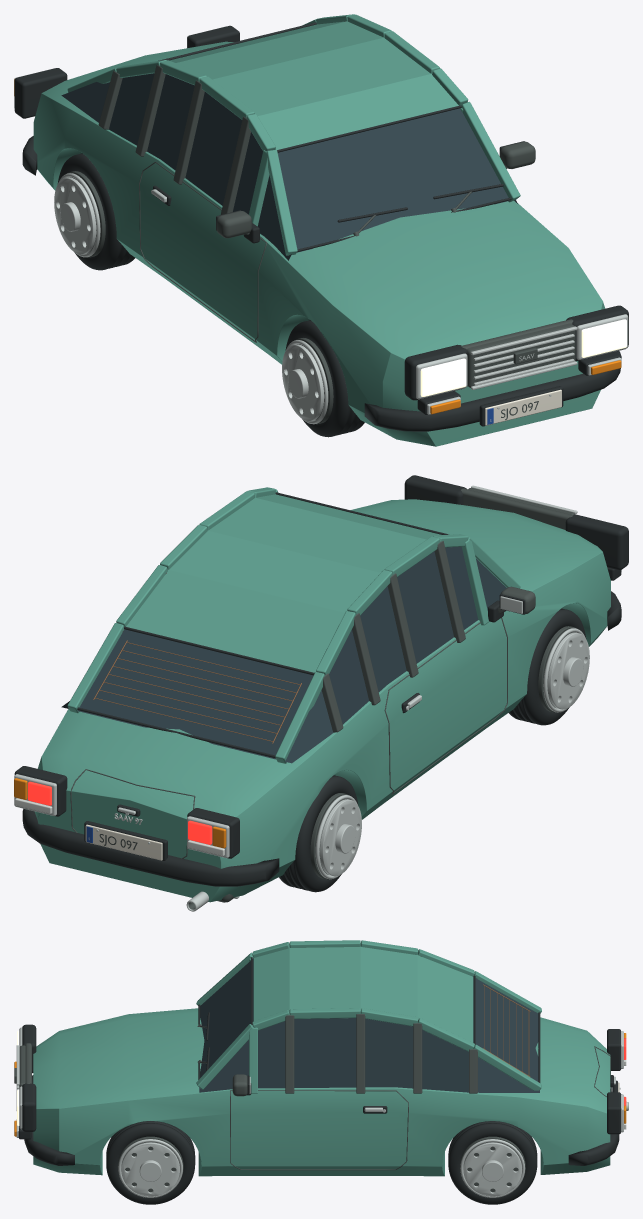
The model's file is saab96.glb.
3 renders of one model, top to bottom at view 1: azimuth 30°, elevation 25°; view 2: azimuth 150°, elevation 25°; view 3: azimuth 270°, elevation 25°, orthographic. The views are drawn at different scales.
Parts seen in each view (by area): view 1: Painted bodyshell, Cabin, Saav wraparound bumper, Däck, Saav grille backing, Däck.002, Pressed steel wheel.002, Pressed steel wheel, Rear combination lamp housing, Headlamp lens, Roof rail, Headlamp lens.001 (+18 smaller); view 2: Painted bodyshell, Cabin, Saav wraparound bumper.001, Däck.002, Däck, Pressed steel wheel, Pressed steel wheel.002, Headlamp pocket, Grille, Saav number plate.001, Headlamp pocket.001, Roof rail.010 (+19 smaller); view 3: Painted bodyshell, Cabin, Däck.003, Däck.001, Pressed steel wheel.001, Pressed steel wheel.003, Saav wraparound bumper.001, Roof rail.001, Saav wraparound bumper, Window pillar.005, Window pillar.003, Roof rail.011 (+22 smaller).
Boxes of the visible parts, <box> form: Painted bodyshell: <box>33,41,605,446</box>; Cabin: <box>61,21,517,260</box>; Saav wraparound bumper: <box>364,351,621,431</box>; Däck: <box>285,320,364,437</box>; Saav grille backing: <box>467,323,575,387</box>; Däck.002: <box>57,153,134,270</box>; Pressed steel wheel.002: <box>54,177,96,254</box>; Pressed steel wheel: <box>282,344,324,421</box>; Rear combination lamp housing: <box>14,68,67,118</box>; Headlamp lens: <box>420,358,466,396</box>; Roof rail: <box>266,150,297,255</box>; Headlamp lens.001: <box>581,319,626,357</box>; Painted bodyshell: <box>34,499,610,902</box>; Cabin: <box>61,494,506,763</box>; Saav wraparound bumper.001: <box>22,808,279,886</box>; Däck.002: <box>279,775,358,892</box>; Däck: <box>509,608,586,725</box>; Pressed steel wheel: <box>547,632,589,709</box>; Pressed steel wheel.002: <box>319,799,361,876</box>; Headlamp pocket: <box>565,514,628,570</box>; Grille: <box>461,488,573,529</box>; Saav number plate.001: <box>85,824,162,860</box>; Headlamp pocket.001: <box>404,475,466,504</box>; Roof rail.010: <box>275,672,324,763</box>; Painted bodyshell: <box>33,1008,610,1176</box>; Cabin: <box>199,946,539,1092</box>; Däck.003: <box>448,1121,537,1204</box>; Däck.001: <box>106,1121,195,1204</box>; Pressed steel wheel.001: <box>121,1142,179,1196</box>; Pressed steel wheel.003: <box>463,1142,522,1196</box>; Saav wraparound bumper.001: <box>568,1087,619,1165</box>; Roof rail.001: <box>196,1024,253,1089</box>; Saav wraparound bumper: <box>24,1075,74,1165</box>; Window pillar.005: <box>356,1013,365,1093</box>; Window pillar.003: <box>285,1015,294,1093</box>; Roof rail.011: <box>473,1044,541,1090</box>.
Bounding box in the file's own units: 1.95 × 1.47 × 4.42.
